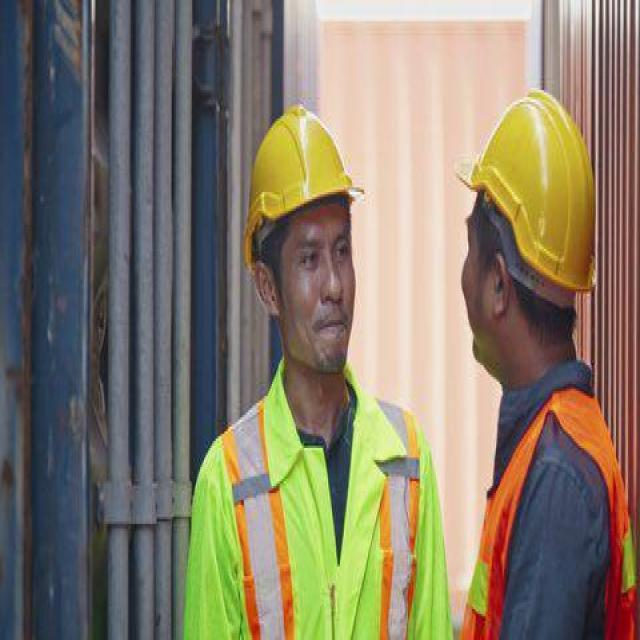helmet: (451, 86, 596, 290), (244, 104, 367, 268)
